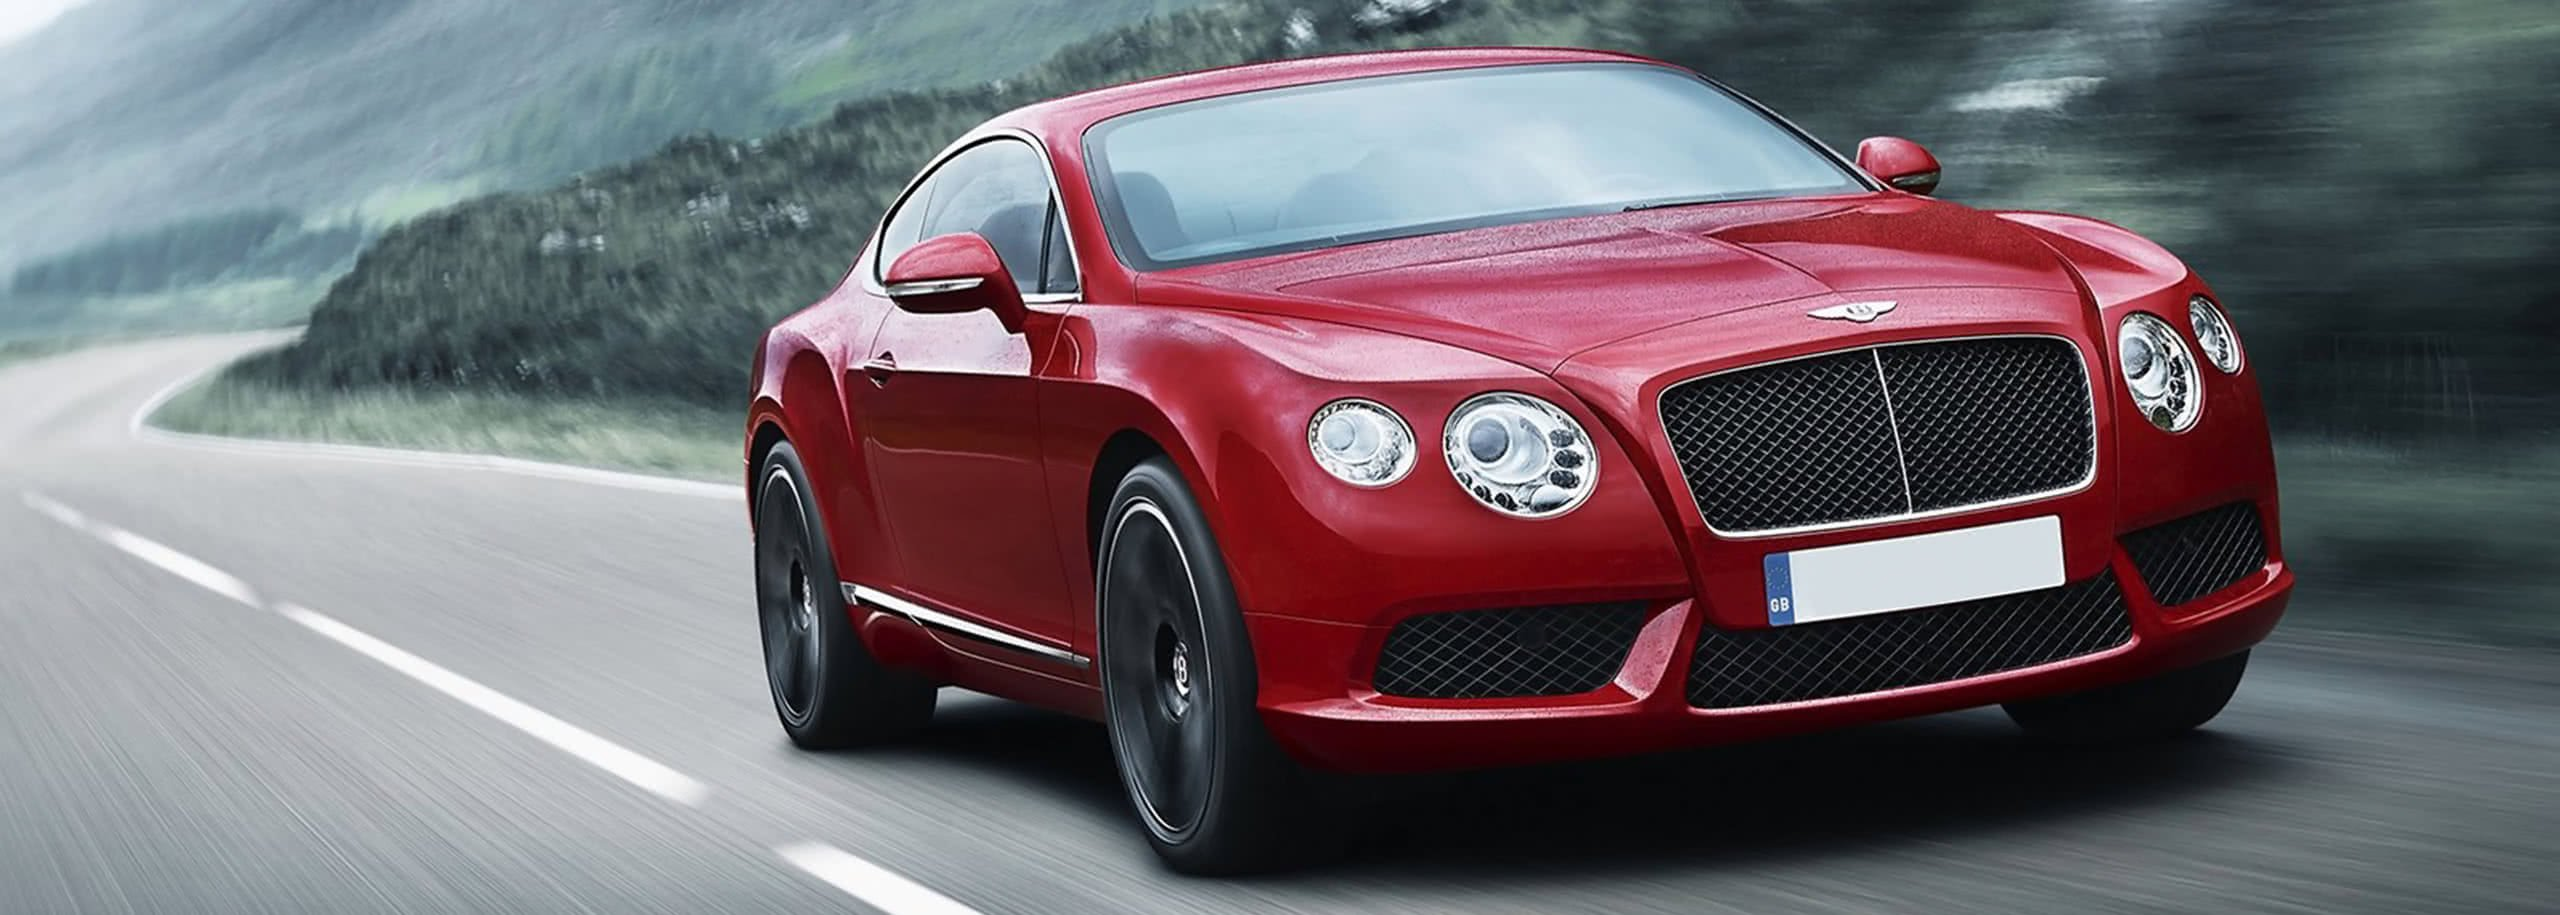car: (738, 42, 2291, 851)
